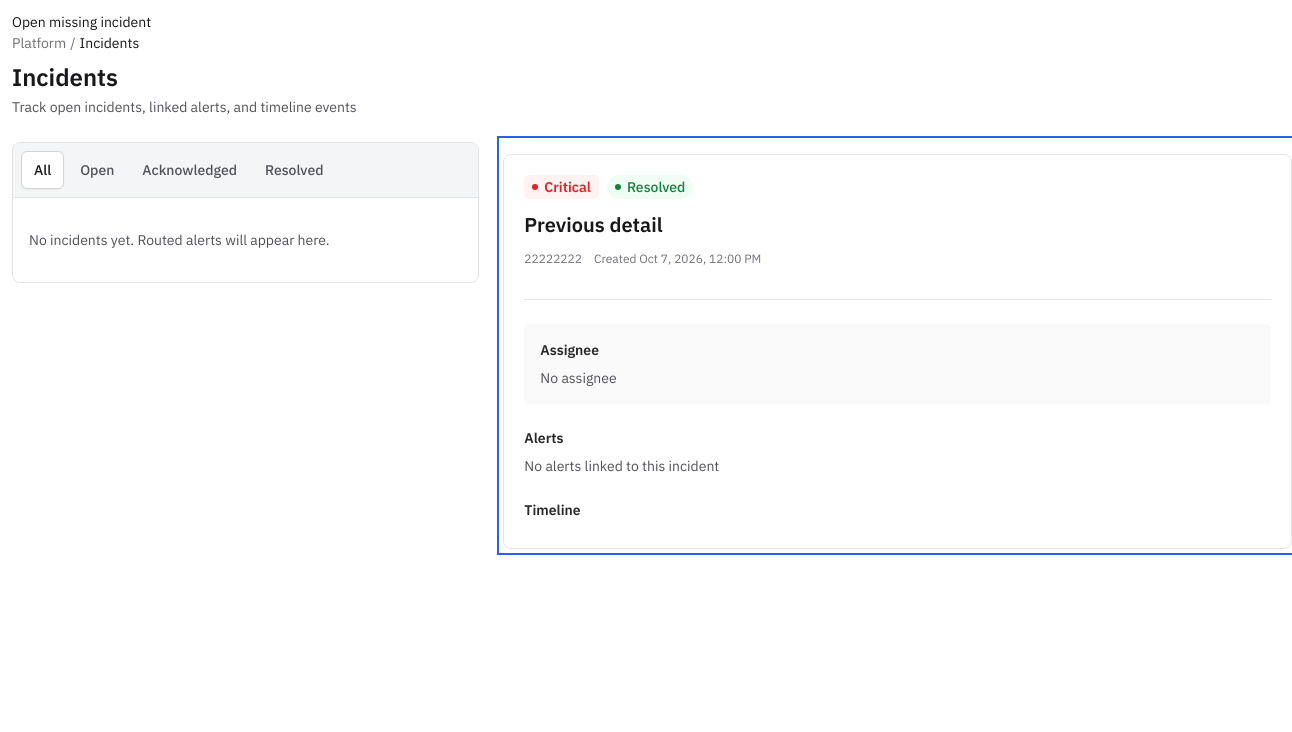
Test: IncidentsPage › clears the previous detail when a notification link selects a missing incident
Check: the heading "Previous detail" is shown, box [524, 211, 663, 238]
Click the link "Open missing incident": {"x": 82, "y": 22} [12, 13, 151, 31]
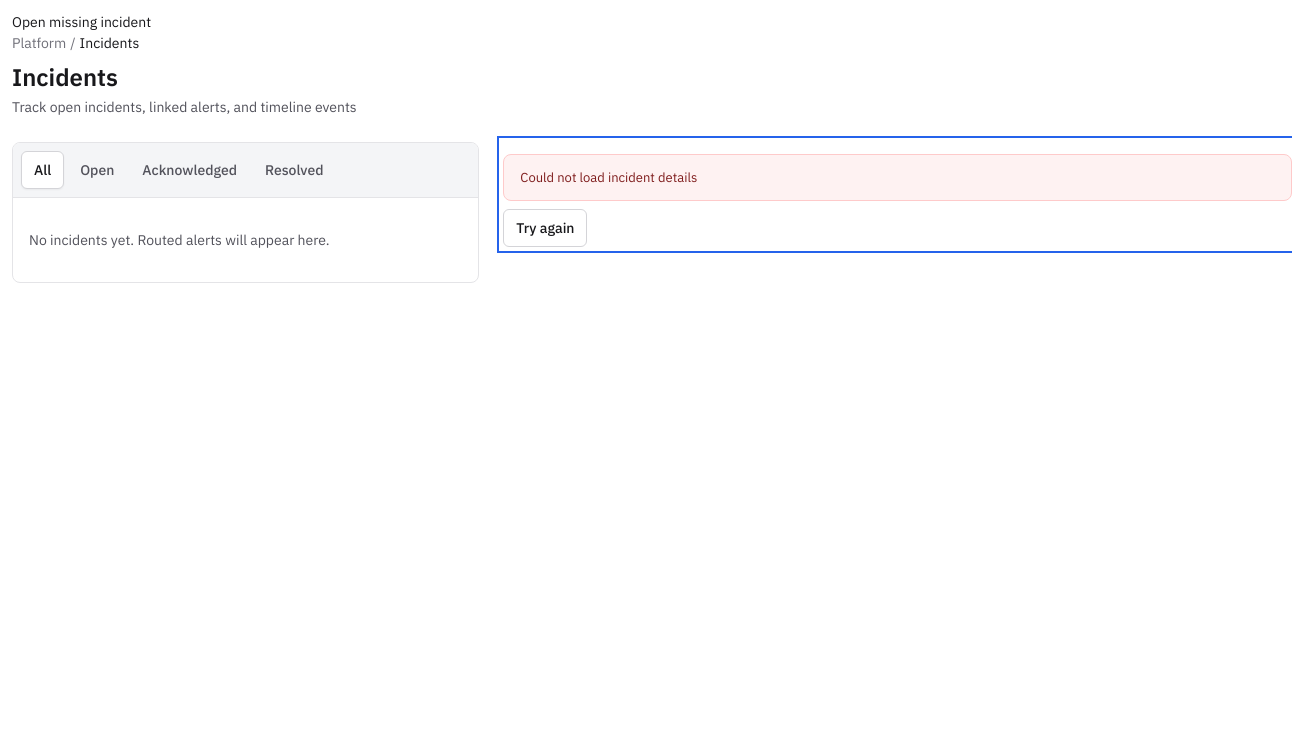
Check: the heading "Previous detail" is gone
Check: the text "Could not load incident details" is shown, box [503, 154, 1291, 201]
